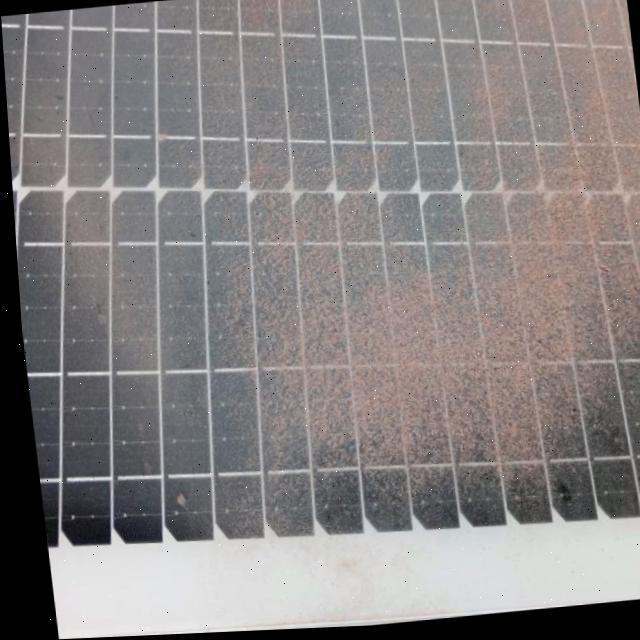Anomaly Solar Panel: (0, 0, 640, 581)
Surface Contaminant: (1, 0, 640, 581)
